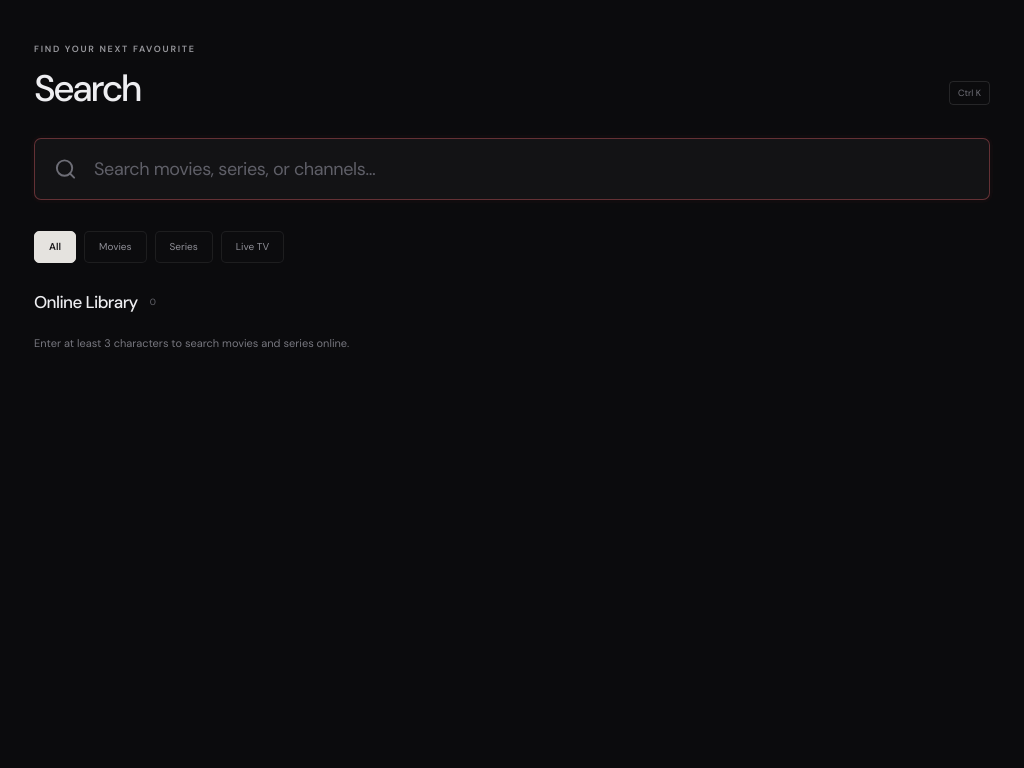
Test case: a late response for an old online query cannot replace the current results
Type "older" into the field named "Search your library" at (531, 169), box [92,156,970,182]
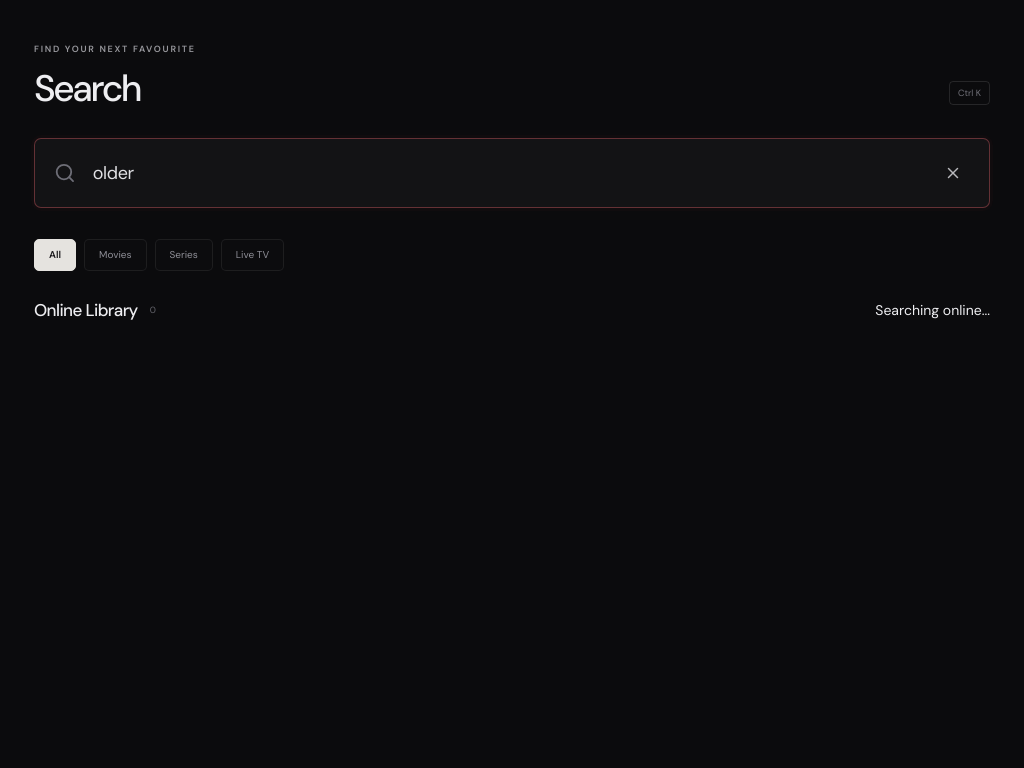
Replace the text in the field named "Search your library" with "current" at (506, 173), box [91,160,921,186]
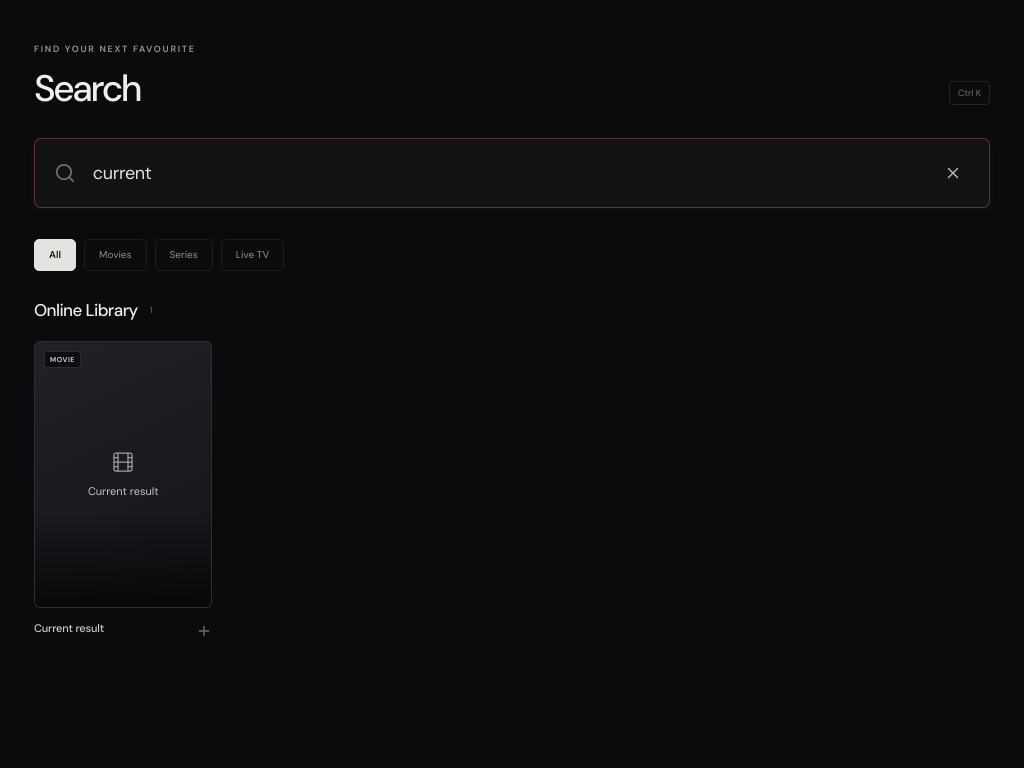
Check: the text "Current result" is shown, box [88,484,158,499]
